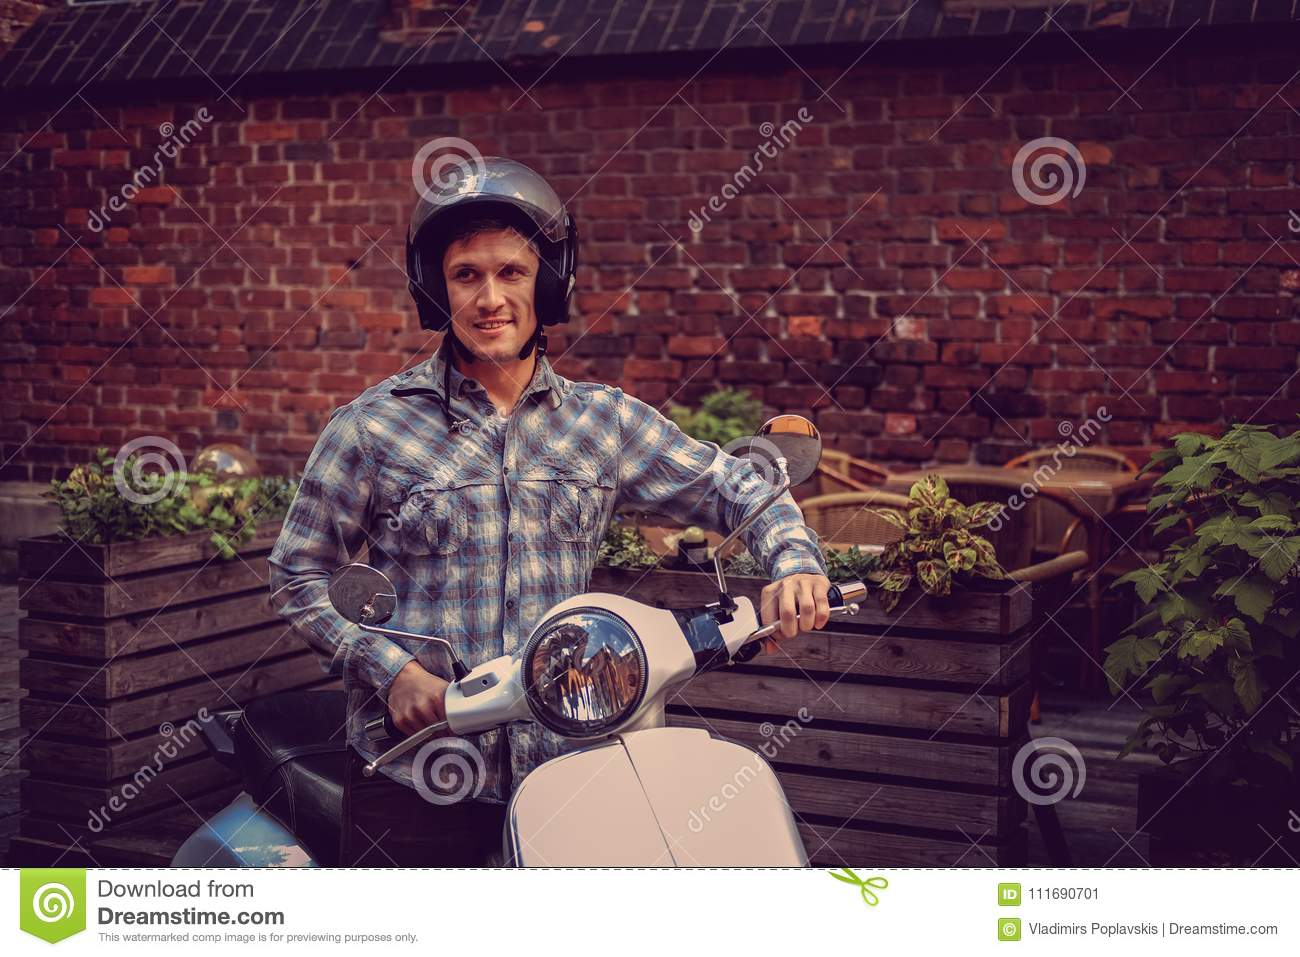helmet: (401, 167, 586, 339)
